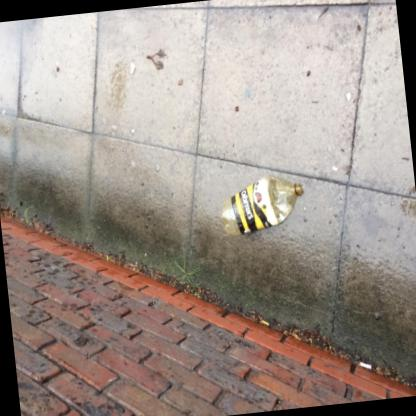Paper: (359, 360, 371, 367), (261, 319, 269, 324)
Plastic: (221, 172, 303, 234)
